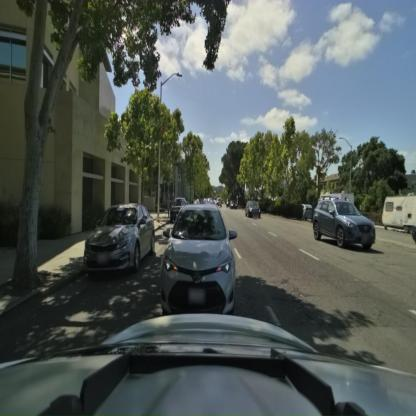car: (7, 311, 416, 414), (158, 200, 238, 316), (83, 202, 155, 275), (312, 196, 377, 250), (169, 197, 190, 220), (244, 200, 261, 218), (301, 203, 313, 221)
truck: (383, 194, 416, 236)
